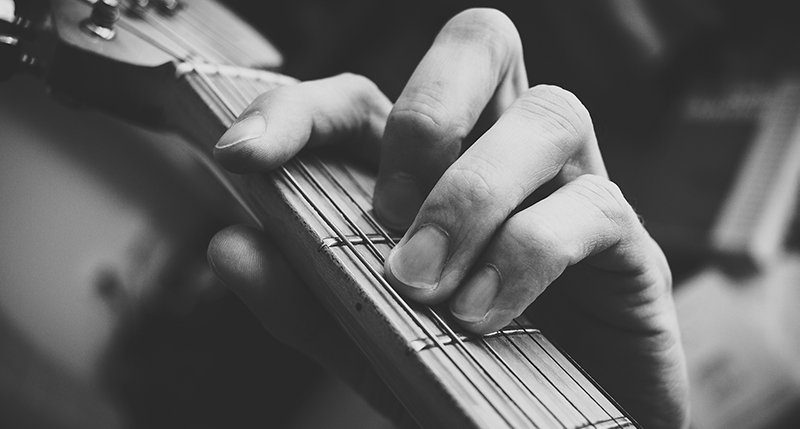finger: (364, 79, 628, 304), (365, 14, 539, 214), (439, 184, 653, 323), (207, 79, 395, 180)
